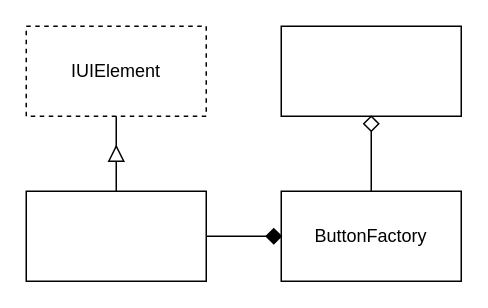
Image size: 488x308. Some labels were removed from this diagram. The shapes that lost their labels are listed below. From the top down, each one's centre as x and y in pixels, then its label:
the point at 370,70: UnitTest
the point at 115,235: UIButton
